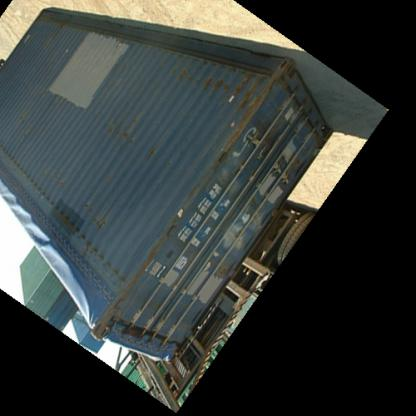Damage: (162, 62, 264, 100), (78, 202, 113, 234), (91, 122, 137, 145), (46, 20, 72, 44), (143, 146, 165, 166)
